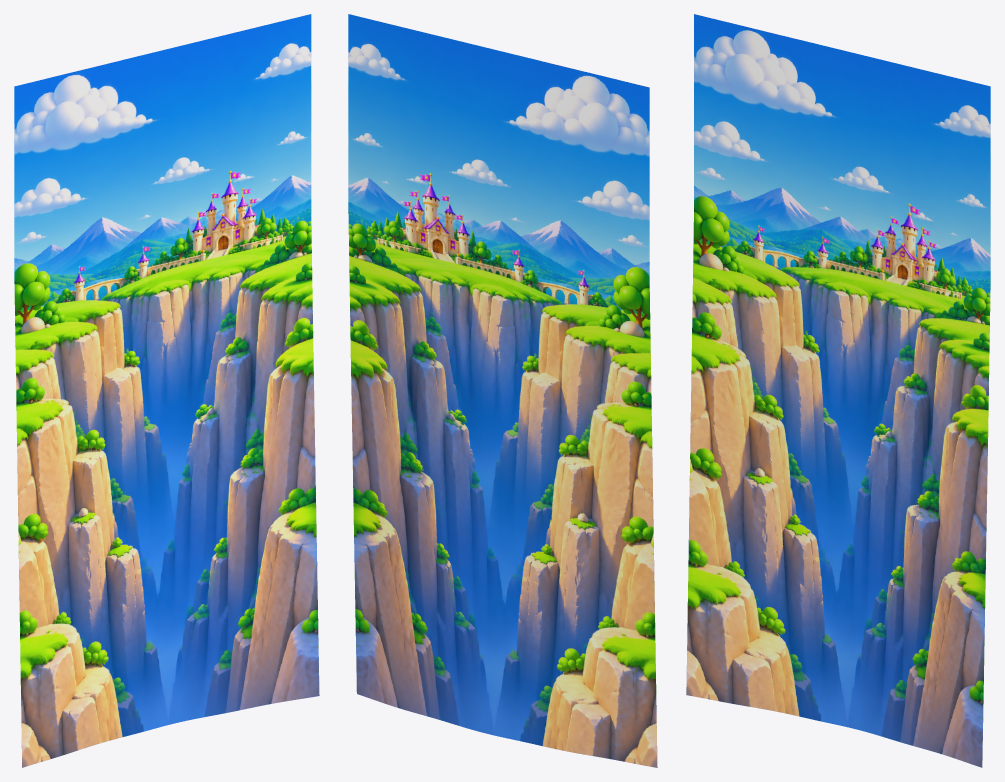
Rendered from background.glb.
3 views of the same model, side by side, from view 1: azimuth 30°, elevation 25°; view 2: azimuth 150°, elevation 25°; view 3: azimuth 330°, elevation 25° (orthographic).
Visible parts, largest first — view 1: Painted_Canyon_Relief; view 2: Painted_Canyon_Relief; view 3: Painted_Canyon_Relief.
Boxes of the visible parts, x1,y1,x2,y2 form: Painted_Canyon_Relief: (14, 14, 319, 767); Painted_Canyon_Relief: (348, 14, 657, 767); Painted_Canyon_Relief: (686, 14, 990, 767).
Bounding box in the file's own units: 8.5 × 18.5 × 0.41.
1 material, 1 textured.
